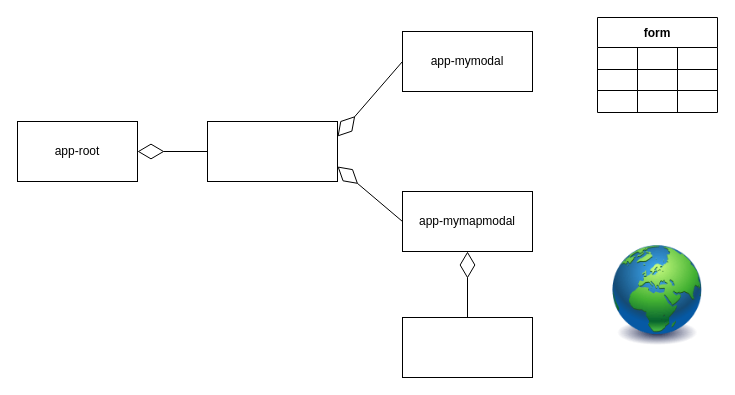
Some shapes in this 735 by 395 pixel diagram are drawn without their labels. The centre of each missing label's shape, as x and y in pixels:
"app-myexpandedtable" belongs at point (272, 151).
"app-mymap" belongs at point (467, 347).
